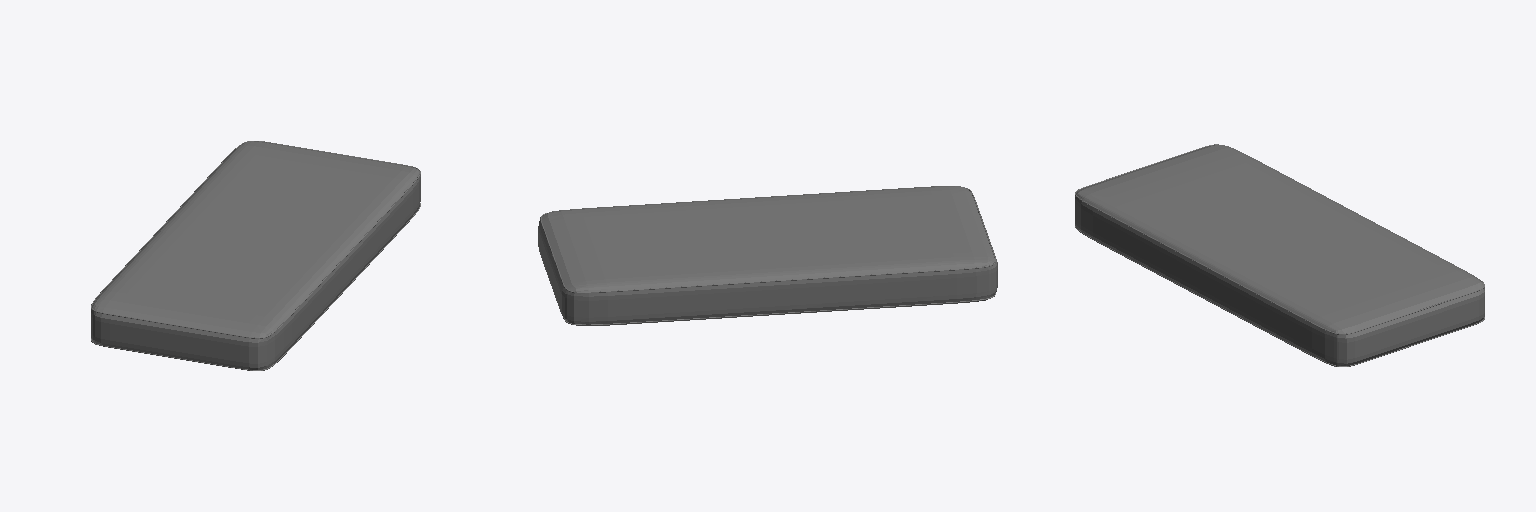
The model's file is Bed.obj.
3 views of the same model, side by side, from view 1: azimuth 30°, elevation 25°; view 2: azimuth 150°, elevation 25°; view 3: azimuth 270°, elevation 25° (orthographic).
Parts seen in each view (by area): view 1: Bed; view 2: Bed; view 3: Bed.
Part boxes in pixels (left/top/right/bottom): Bed: left=91, top=141, right=420, bottom=370; Bed: left=538, top=186, right=997, bottom=325; Bed: left=1075, top=144, right=1484, bottom=366.
Size of the model in its own units: 32.1 by 3.3 by 29.21.